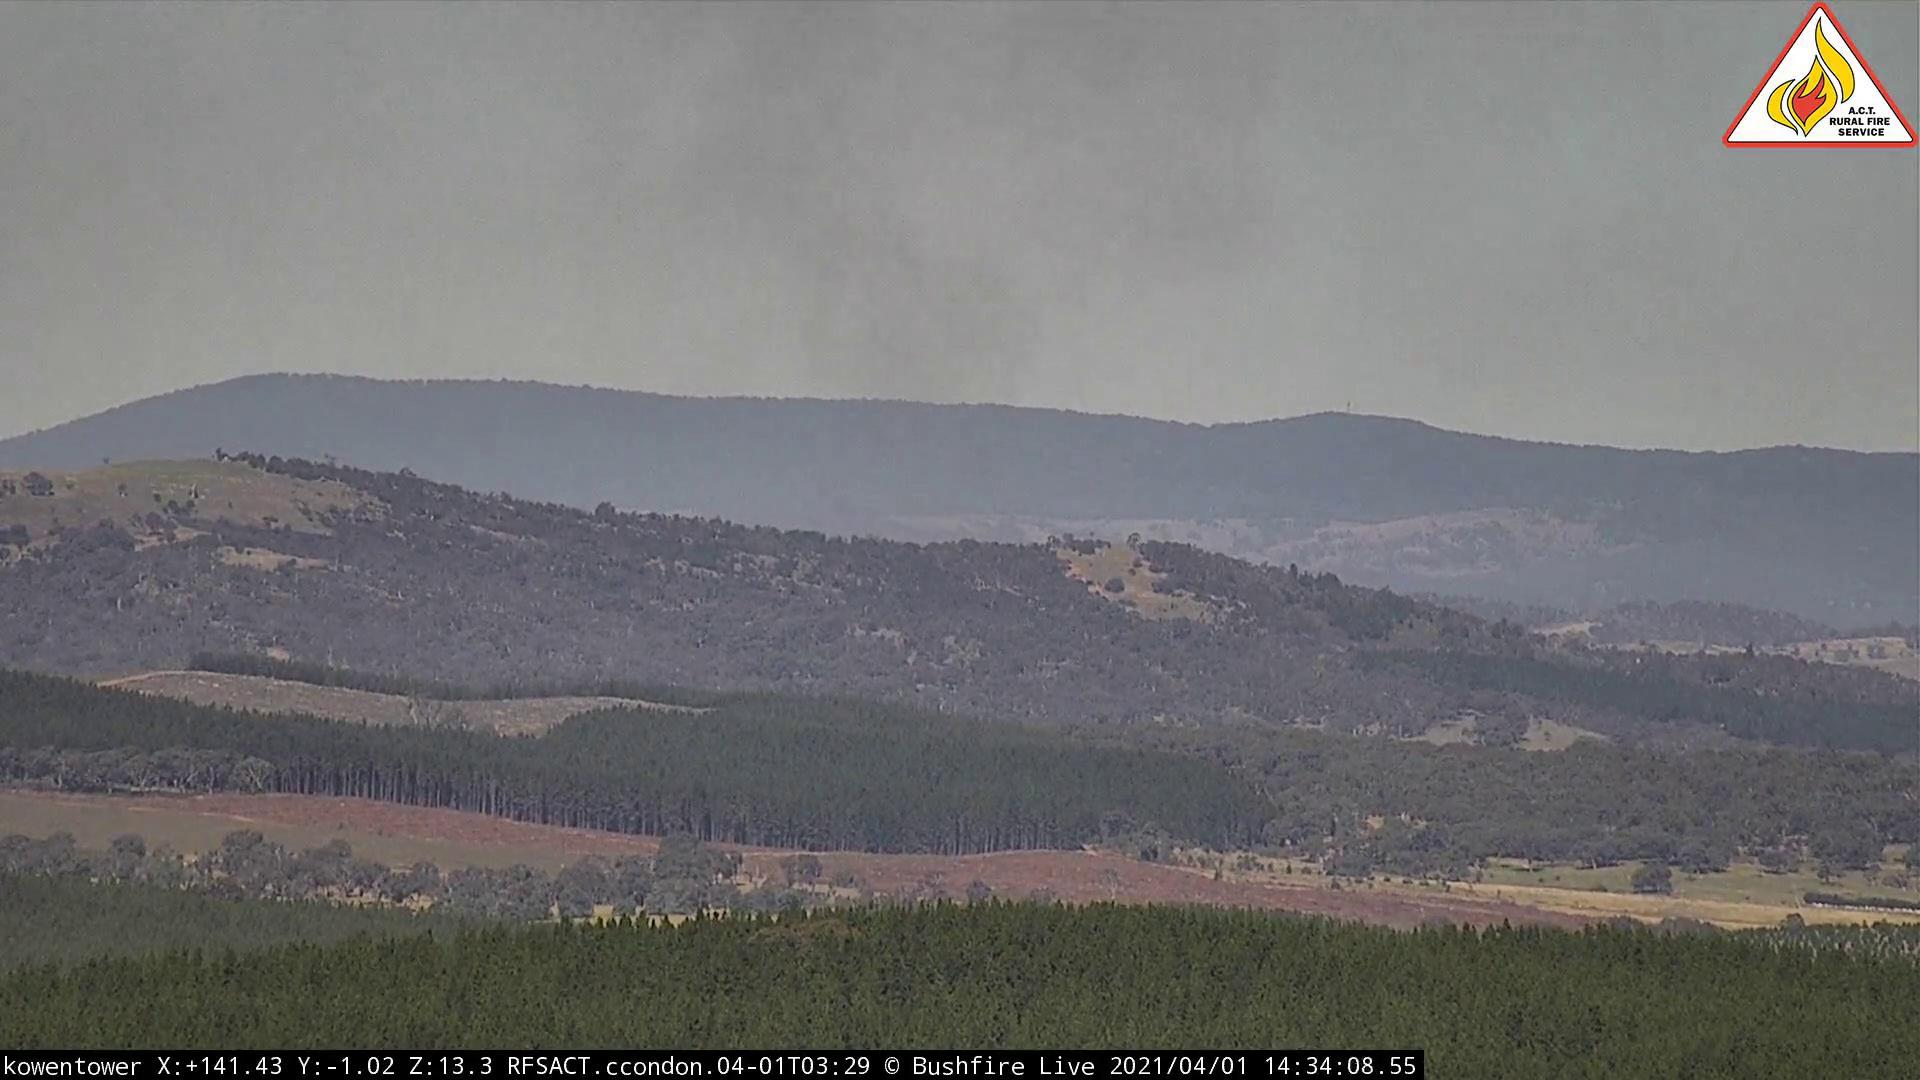Smoke: (651, 3, 1302, 506)
